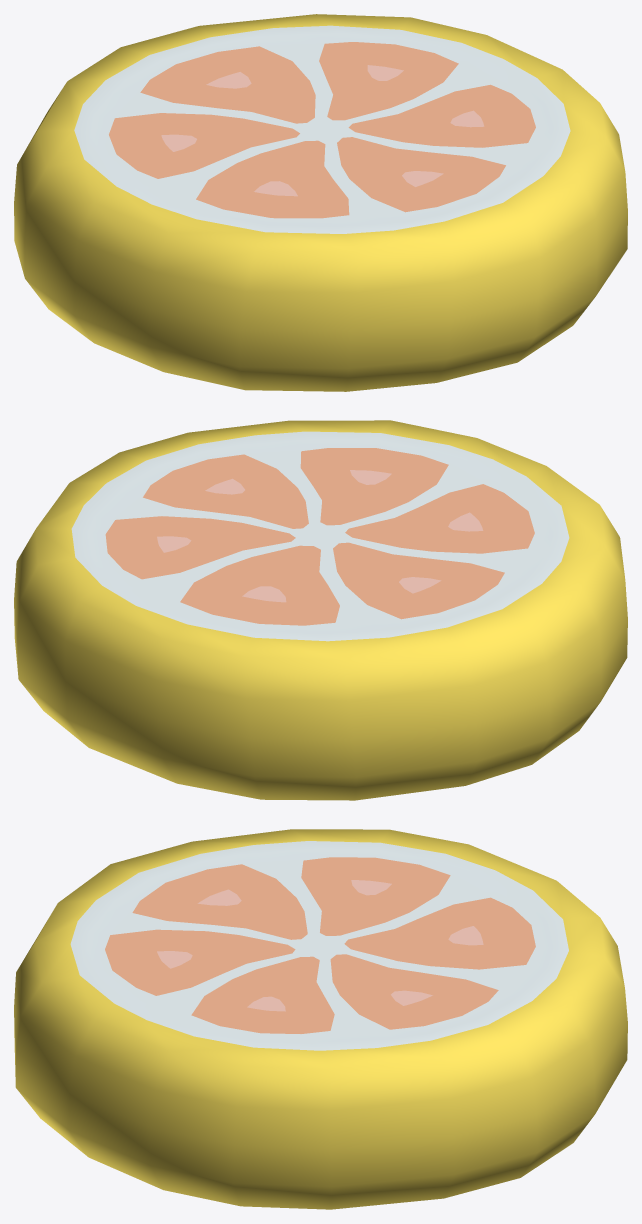
File: candy_assets11.fbx
The picture shows the model from 3 angles, top to bottom: view 1: azimuth 30°, elevation 25°; view 2: azimuth 150°, elevation 25°; view 3: azimuth 270°, elevation 25°; orthographic projection.
Visible parts, largest first — view 1: candy_assets11; view 2: candy_assets11; view 3: candy_assets11.
Part boxes in pixels (x1=…): candy_assets11: x1=14, y1=14, x2=627, y2=391; candy_assets11: x1=14, y1=420, x2=627, y2=800; candy_assets11: x1=14, y1=829, x2=627, y2=1209.
Bounding box in the file's own units: 503 × 142 × 504.
Materials: 1 (1 with a texture image).
